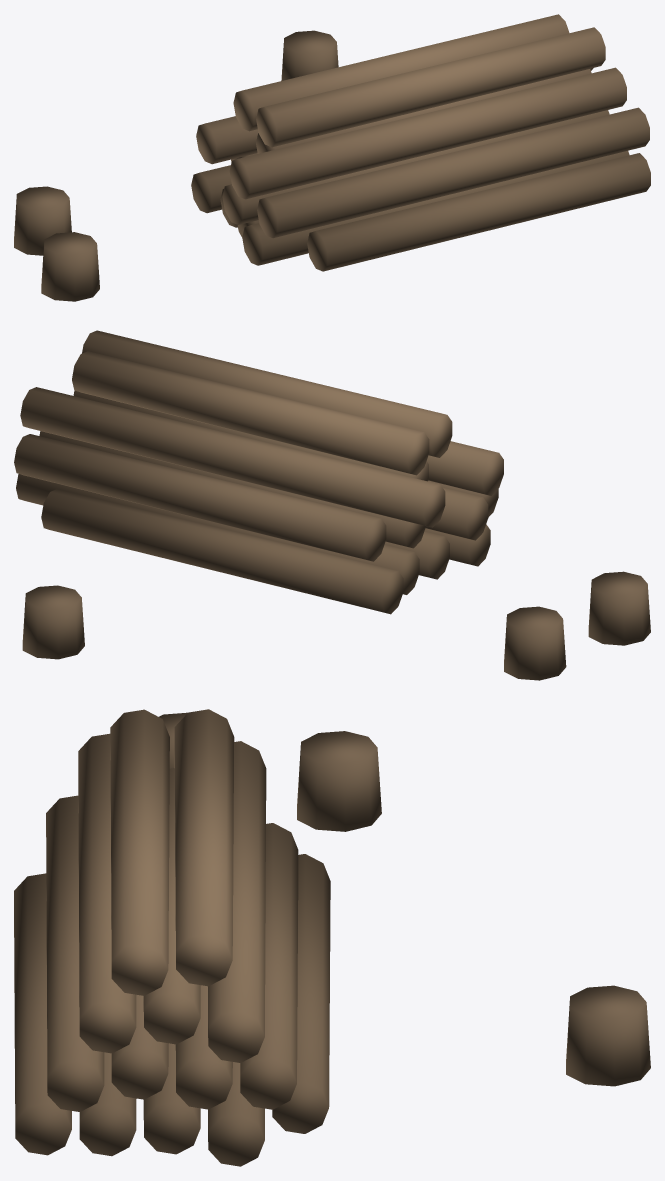
File: log_pile.glb
The picture shows the model from 3 angles, top to bottom: view 1: azimuth 30°, elevation 25°; view 2: azimuth 150°, elevation 25°; view 3: azimuth 270°, elevation 25°; orthographic projection. The views are drawn at different scales.
Visible parts, largest first — view 1: log_pile; view 2: log_pile; view 3: log_pile.
Boxes of the visible parts, box(x1,y1,x2,y2) form: log_pile: box(14, 14, 650, 301); log_pile: box(14, 330, 650, 680); log_pile: box(14, 709, 650, 1166).
Size of the model in its own units: 6.47 by 1.62 by 4.36.
